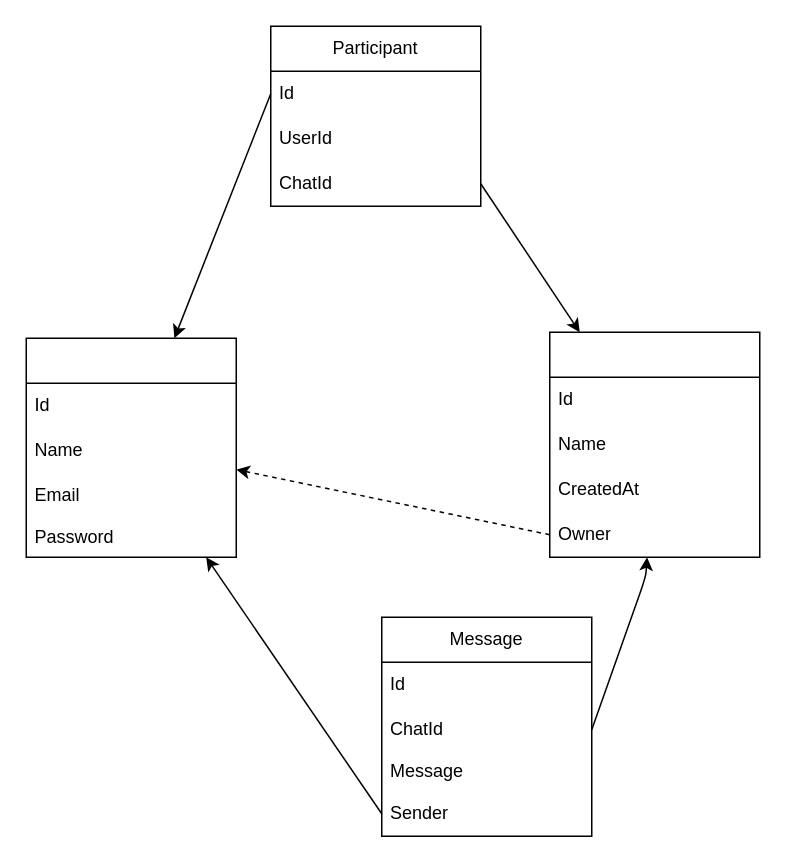
Some shapes in this 786 by 863 pixel diagram are drawn without their labels. The shapes that lost their labels are listed below. From the top down, each one's box as (x1, y1, x2, y2) in pixels, then its label:
(25, 337, 236, 557): User
(548, 331, 760, 557): Chat
